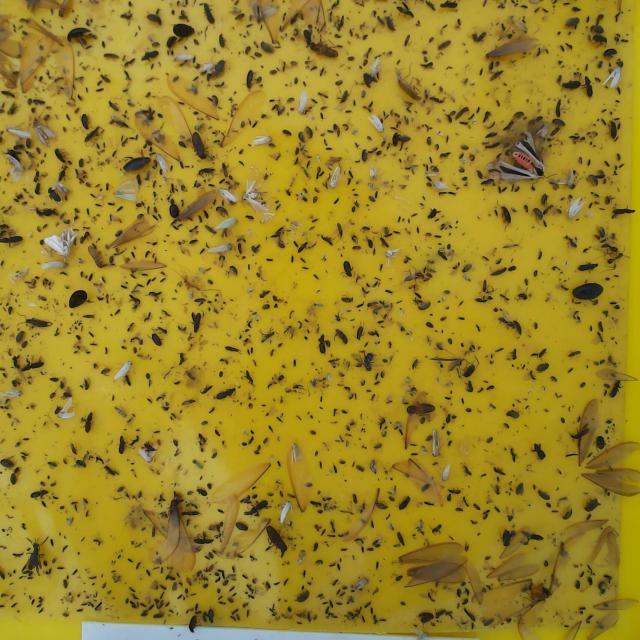Carpelimus sp: (201, 2, 219, 26), (214, 384, 239, 401), (82, 409, 96, 436), (249, 499, 270, 516), (47, 188, 66, 206), (21, 360, 49, 371), (1, 235, 31, 245), (614, 205, 636, 218), (31, 489, 52, 502), (611, 378, 621, 402), (579, 262, 602, 272), (584, 75, 594, 97), (194, 538, 217, 546), (118, 435, 127, 455)
Cofana spectra: (112, 183, 143, 204), (155, 153, 173, 179), (278, 497, 295, 524), (219, 186, 240, 207), (116, 357, 133, 381), (4, 161, 28, 178), (7, 126, 34, 141), (605, 64, 621, 89), (42, 258, 69, 272), (568, 197, 584, 220), (59, 399, 76, 420), (210, 241, 235, 255), (248, 136, 276, 148), (370, 114, 385, 135), (215, 218, 238, 231), (384, 246, 402, 262), (138, 449, 157, 464), (369, 57, 382, 77), (4, 387, 23, 400), (442, 462, 454, 482), (330, 166, 340, 189), (202, 61, 215, 76), (300, 92, 308, 116), (172, 55, 198, 62), (431, 180, 449, 190), (368, 164, 378, 180)
Formicidae sp -tidak terlihat dari samping-: (395, 70, 426, 103)
Hydrophilus piceus: (571, 280, 606, 300), (265, 526, 287, 554), (62, 289, 91, 309), (64, 27, 92, 42), (172, 22, 195, 39), (602, 46, 618, 59), (167, 205, 180, 219), (166, 37, 177, 50)
Iridomyrmex sp: (606, 254, 628, 270), (601, 240, 621, 253)
Metoeca foedalis: (430, 430, 443, 459)
Monocrepidius sp: (120, 154, 152, 173), (334, 328, 351, 346), (437, 40, 458, 50), (514, 320, 524, 334)
Nala sp: (21, 313, 57, 330), (180, 509, 208, 518)
Neoporus sp: (590, 20, 613, 35), (416, 611, 438, 626), (259, 39, 277, 56), (531, 206, 546, 224), (501, 528, 513, 549), (565, 16, 584, 29), (0, 456, 16, 471), (585, 496, 599, 513), (297, 589, 313, 603), (234, 521, 250, 533), (552, 118, 568, 128), (535, 363, 552, 372), (596, 435, 606, 450)
Ostrinia sp atau Crocidophora sp: (42, 227, 80, 254), (243, 178, 271, 212), (34, 119, 56, 142), (248, 8, 274, 24), (289, 438, 305, 464)
Paederus fuscipes: (259, 326, 277, 343), (243, 370, 258, 390), (463, 607, 479, 625), (196, 166, 218, 178), (58, 163, 69, 182), (555, 98, 564, 118), (462, 462, 473, 478), (510, 445, 518, 464), (493, 466, 508, 476), (378, 413, 386, 430), (447, 488, 465, 495)
Pilonthus sp: (569, 133, 586, 144), (483, 141, 503, 150), (299, 240, 307, 256), (482, 132, 503, 138), (482, 179, 494, 185)
Psychoda sp: (516, 482, 530, 497)
Sepedon sphegea: (24, 536, 47, 572)
Tachys sp: (606, 119, 622, 142), (499, 204, 514, 227), (560, 77, 582, 92), (80, 111, 94, 130), (592, 36, 618, 45), (317, 333, 328, 354), (245, 70, 256, 91), (343, 259, 355, 278), (146, 14, 162, 25)
